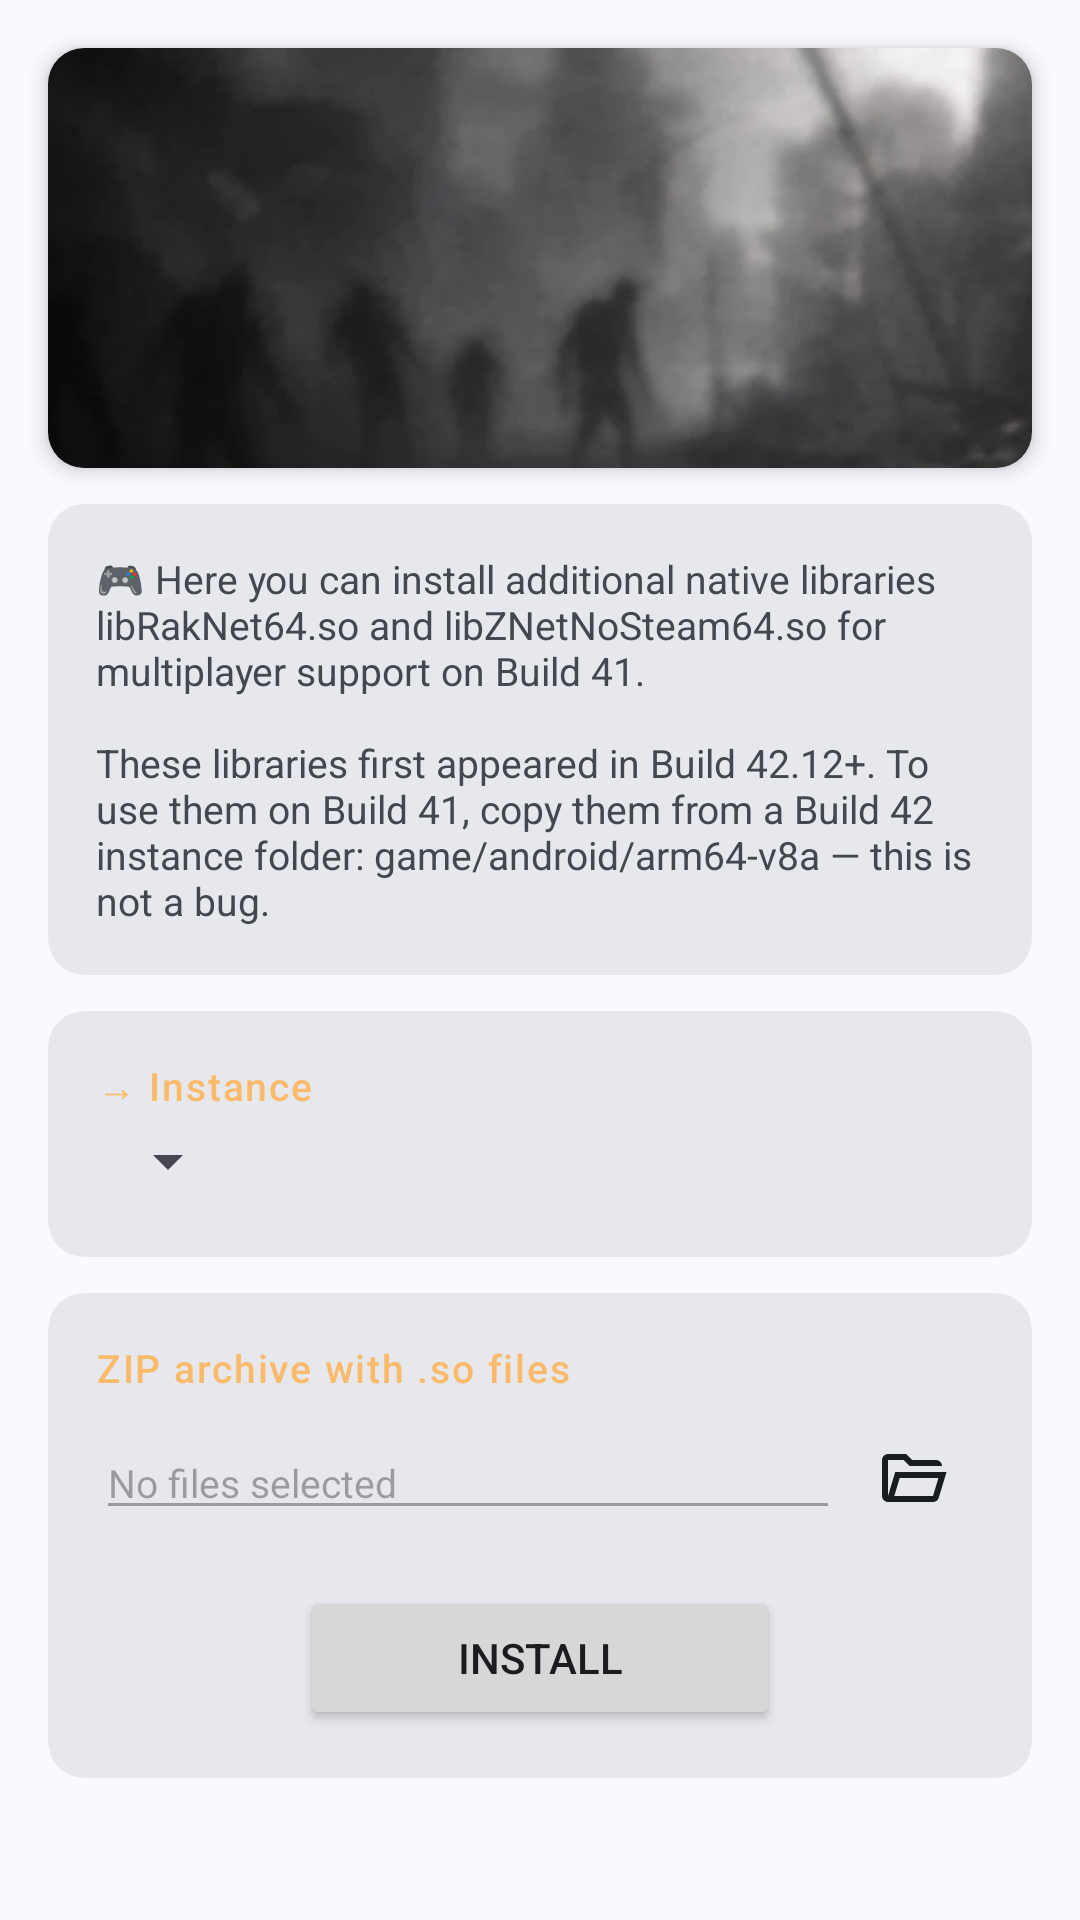

Icons on this 1080 x 1920 Android screen, each with the point to tap as point (x, y):
folder open: point (914, 1478)
